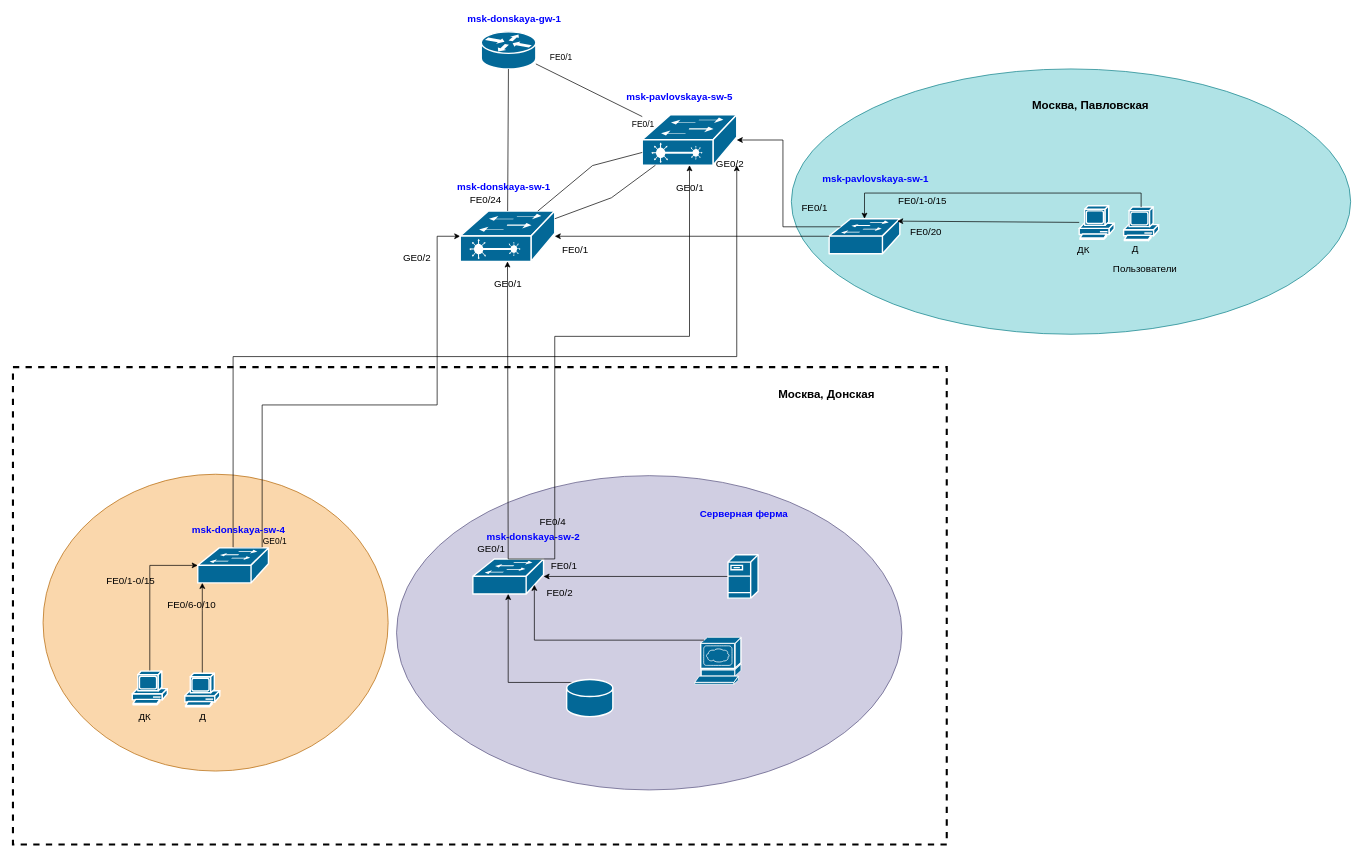
This 1363x858 diagram has some shape labels left out. The shapes that lost their labels are listed below. From the top down, each one's centre as x and y in pixels, then its label:
At (508,50): "FE0/0".
At (508,576): "FE0/3".
